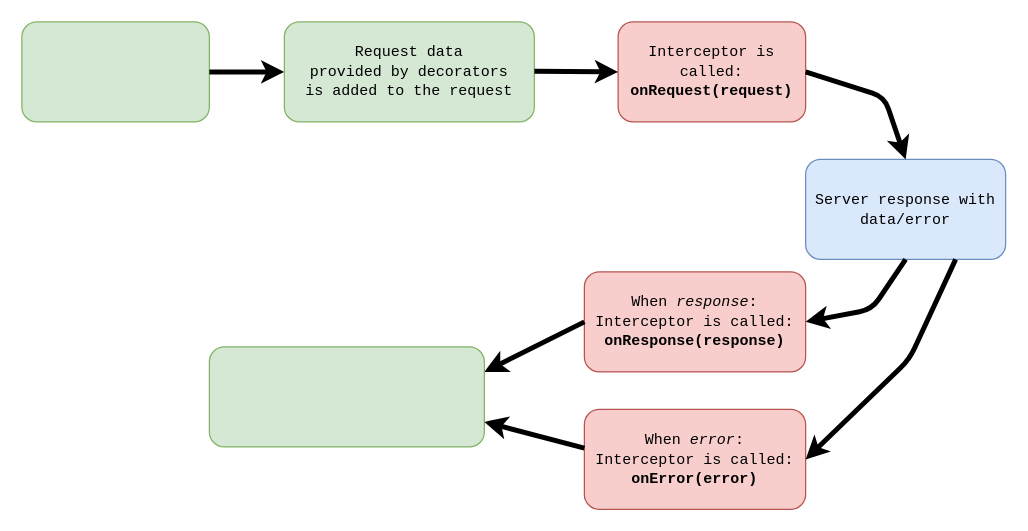
This 1028x531 diagram has some shape labels left out. The shapes that lost their labels are listed below. From the top down, each one's centre as x and y in pixels, then its label:
At [115,71]: "Request function in a EchoService".
At [346,396]: "Data/error is provided to the Service Function inside an EchoPromise".
